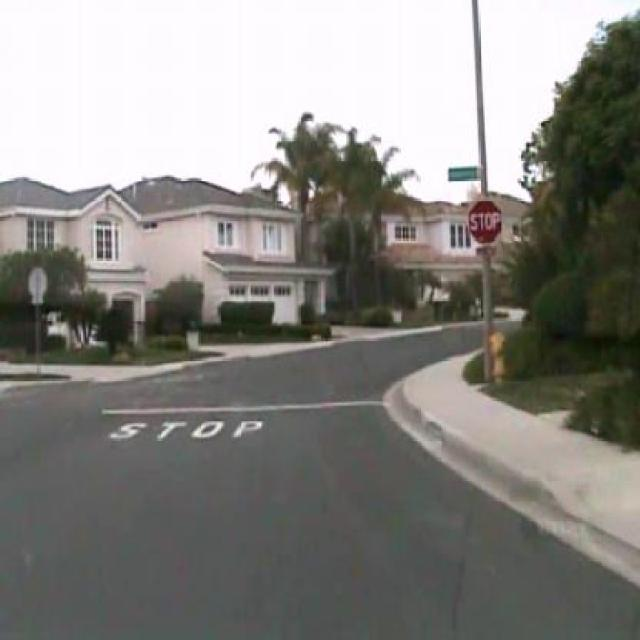stop: (466, 199, 502, 246)
